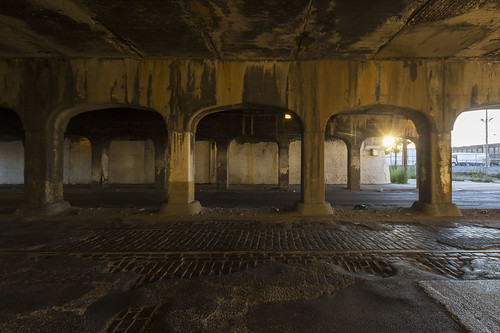collumn: (410, 104, 458, 219), (156, 102, 201, 218), (23, 100, 66, 211), (291, 103, 330, 220)
street: (1, 221, 491, 333)
